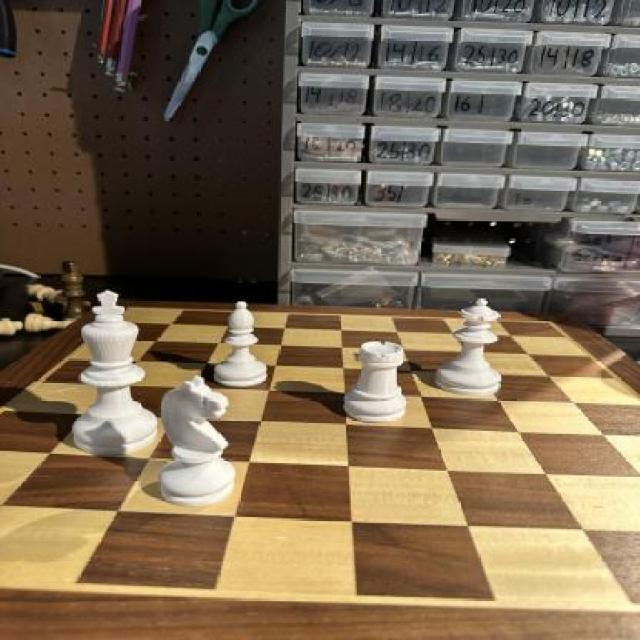black-rook: (211, 297, 276, 390)
white-bishop: (65, 289, 162, 455)
white-king: (151, 372, 242, 508)
white-pawn: (429, 291, 510, 401)
white-queen: (345, 339, 412, 426)
